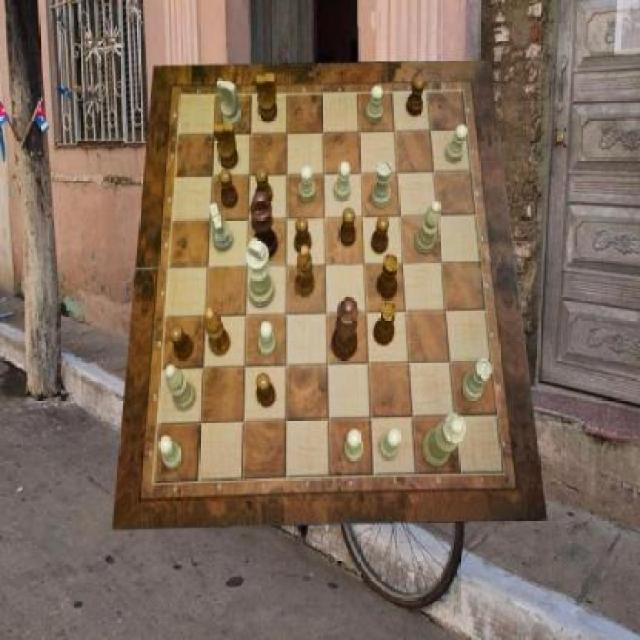bishop: (204, 308, 230, 357), (296, 245, 316, 297)
black-bishop: (251, 191, 278, 260)
black-king: (255, 74, 278, 123), (214, 123, 238, 169)
black-knight: (170, 325, 194, 359), (218, 169, 238, 208), (408, 75, 425, 117), (257, 372, 277, 407), (255, 168, 273, 205), (294, 217, 311, 255), (340, 208, 357, 246), (371, 215, 388, 253)
black-pawn: (331, 297, 358, 361)
black-queen: (374, 301, 397, 347), (377, 254, 399, 299)
black-rook: (416, 200, 442, 255), (166, 364, 196, 410)
white-bishop: (247, 237, 276, 308)
white-king: (210, 203, 234, 252), (217, 80, 241, 129)
white-knight: (446, 125, 469, 163), (158, 435, 182, 470), (378, 428, 401, 460), (344, 429, 364, 463), (334, 163, 351, 202), (366, 86, 383, 125), (259, 322, 276, 358), (300, 166, 317, 202)
white-pawn: (423, 412, 468, 467)
white-queen: (462, 358, 492, 402), (371, 162, 392, 209)
